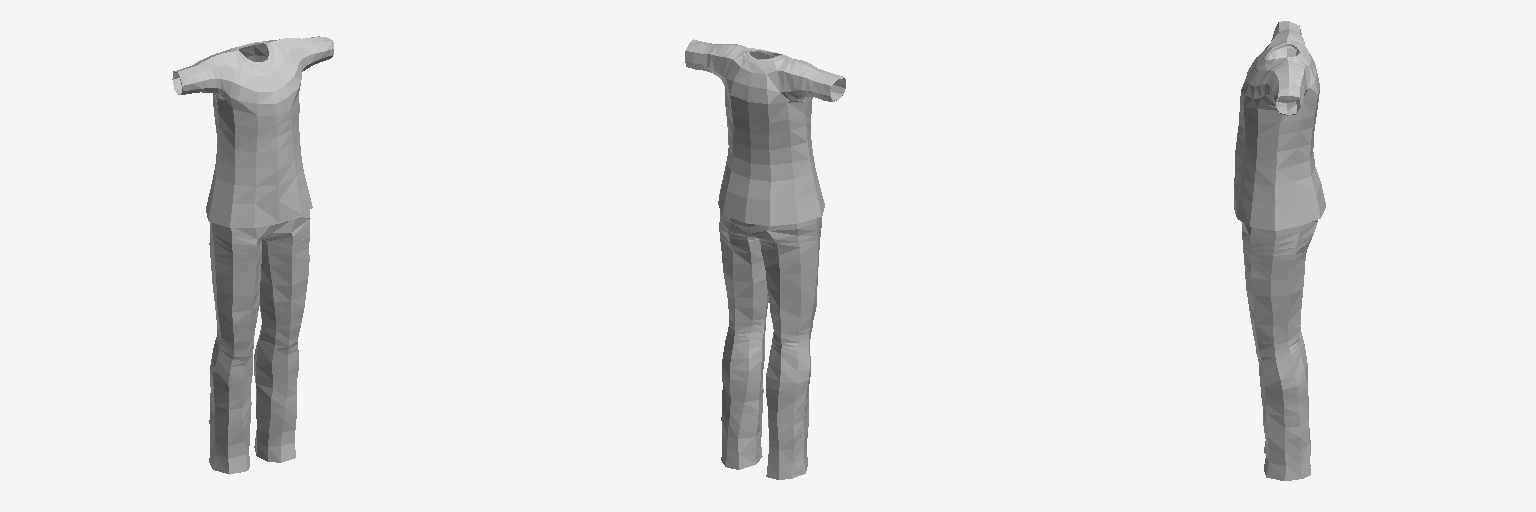
Rendered from BoyTshirt.obj.
3 views of the same model, side by side, from view 1: azimuth 30°, elevation 25°; view 2: azimuth 150°, elevation 25°; view 3: azimuth 270°, elevation 25° (orthographic).
Visible parts, largest first — view 1: tshirt; view 2: tshirt; view 3: tshirt.
Part boxes in pixels (x1,y1,x2,y2): tshirt: (172, 36, 333, 474); tshirt: (685, 39, 845, 479); tshirt: (1234, 21, 1325, 480).
Bounding box in the file's own units: 48.76 × 126 × 25.61.